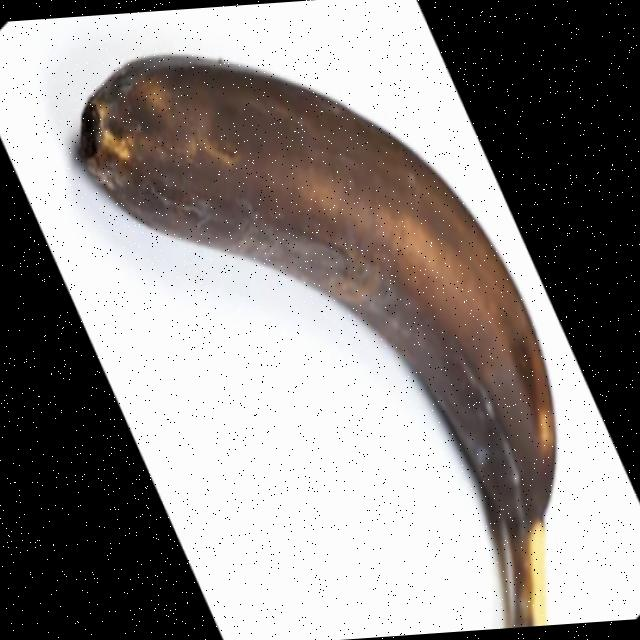Rotten: (72, 28, 571, 640)
